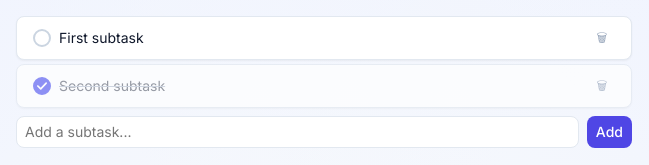
Test: SubtaskList › deletes a subtask
The width and height of the screenshot is (649, 165).
Expected: the text "First subtask" is shown, 59,27 -> 144,49
Click the button named "delete subtask".
click(602, 38)  # box 589,25 -> 615,51
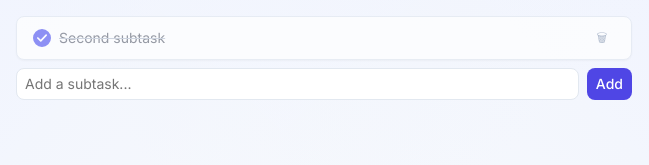
Now the text "First subtask" is gone
